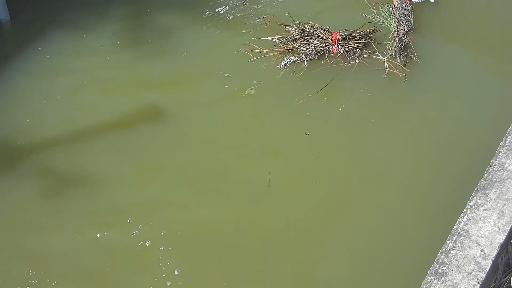twig: (361, 0, 448, 89), (251, 6, 359, 61)
